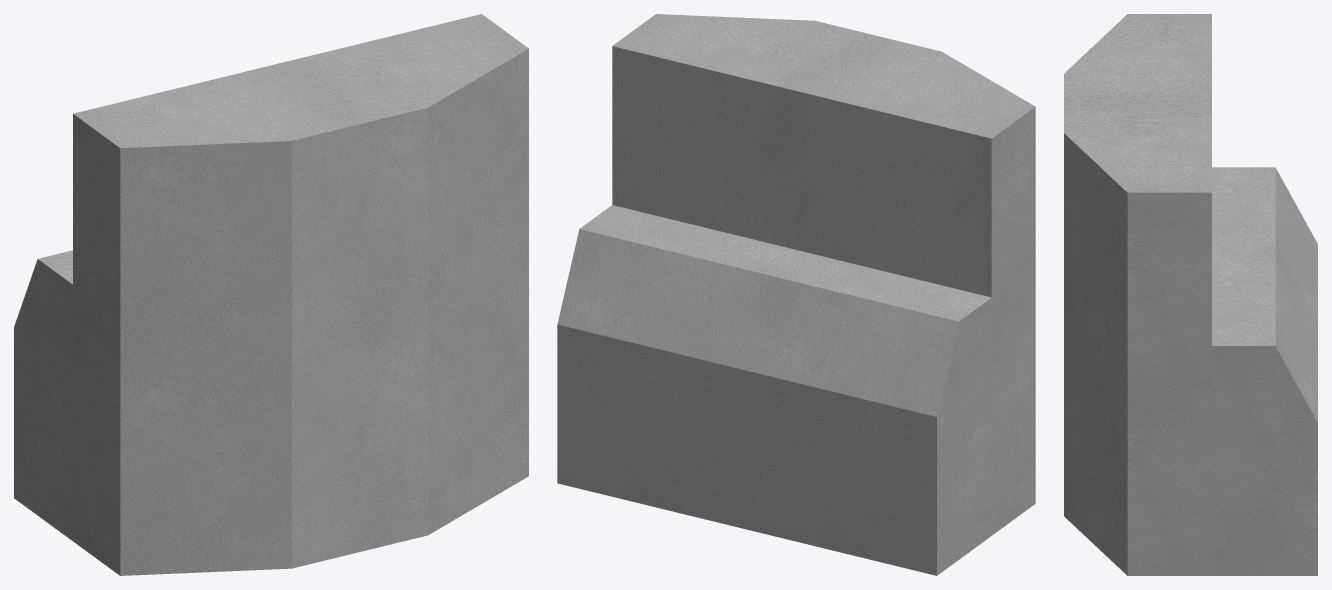
File: BuildingLow4.fbx
3 views of the same model, side by side, from view 1: azimuth 30°, elevation 25°; view 2: azimuth 150°, elevation 25°; view 3: azimuth 270°, elevation 25° (orthographic). The views are drawn at different scales.
Parts seen in each view (by area): view 1: Cube; view 2: Cube; view 3: Cube.
Part boxes in pixels (x1,y1,x2,y2): Cube: (14, 14, 528, 575); Cube: (557, 14, 1035, 575); Cube: (1064, 14, 1317, 575).
Size of the model in its own units: 2000 by 2000 by 1200.
